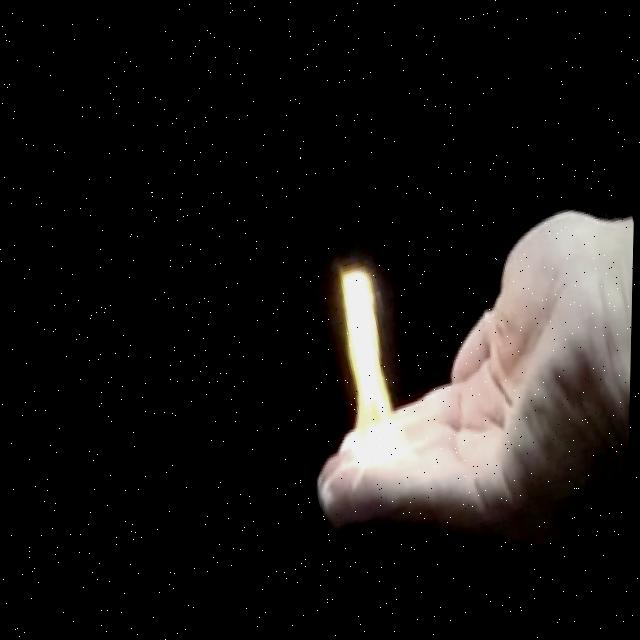Fire: (312, 255, 419, 502)
